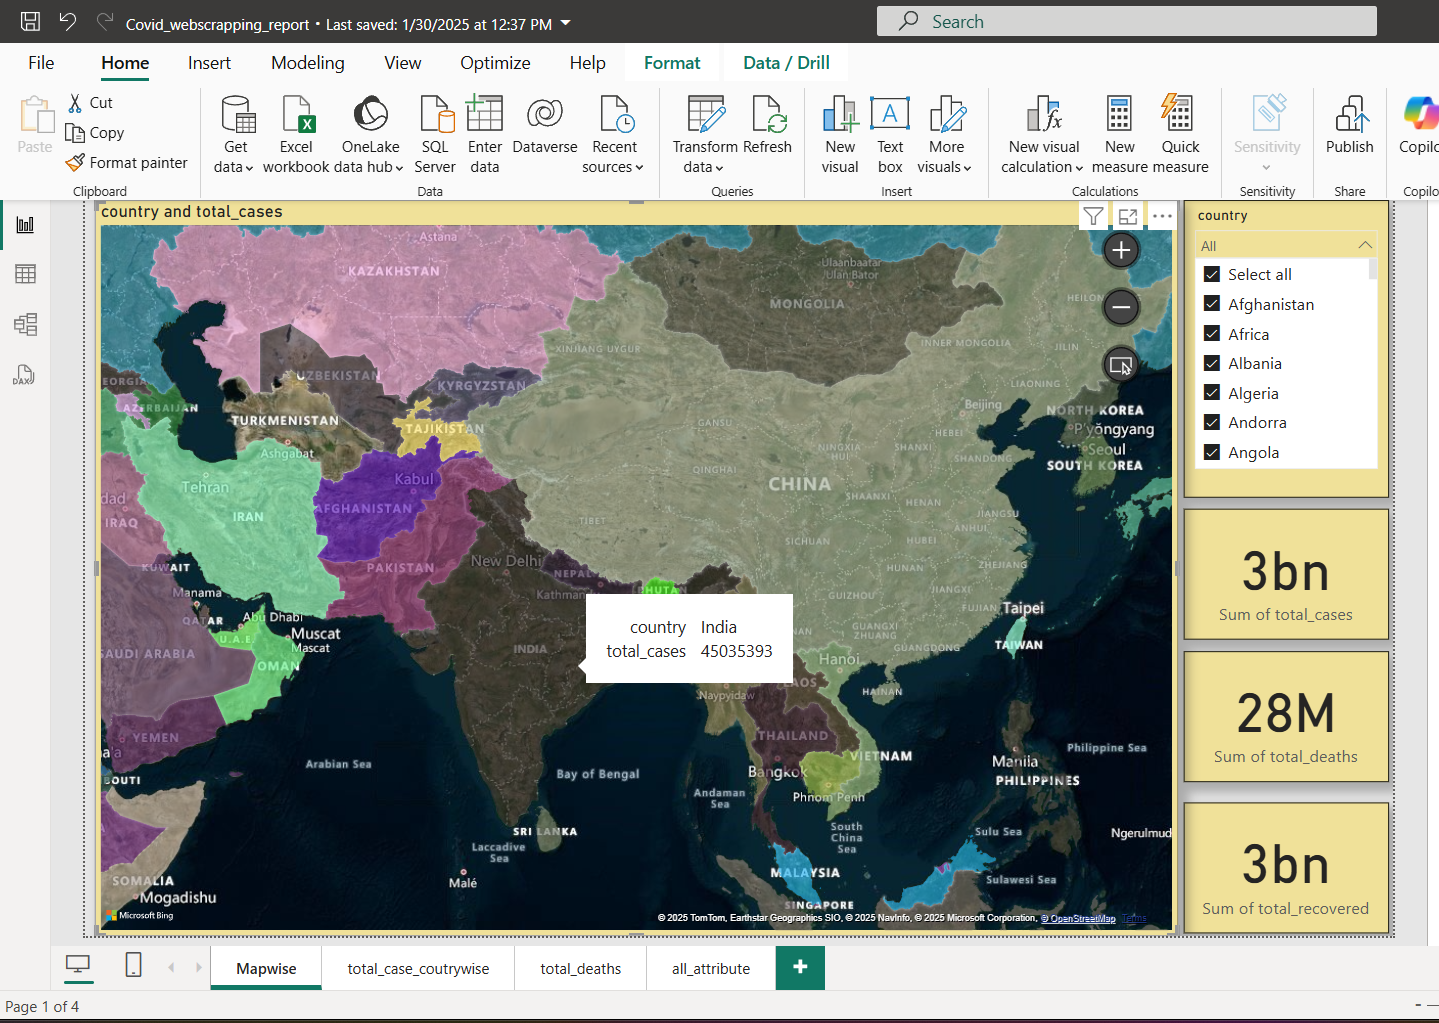

What the dashboard file says about the page in this screenshot:
{"tool":"powerbi","page":{"name":"Mapwise","canvas":[1280,720],"ordinal":0},"visuals":[{"type":"filledMap","fields":{"Category":["covid19 covid_data.country"],"Series":["covid19 covid_data.total_cases"]},"box":[9.8,0,1060.2,720.2],"z":0},{"type":"slicer","fields":{"Values":["covid19 covid_data.country"]},"box":[1074.9,0,200.5,291],"z":1000},{"type":"card","fields":{"Values":["Sum(covid19 covid_data.total_cases)"]},"box":[1075.2,302,200.5,128.4],"z":2000},{"type":"card","fields":{"Values":["Sum(covid19 covid_data.total_deaths)"]},"box":[1075.2,441.4,200.5,128.4],"z":3000},{"type":"card","fields":{"Values":["Sum(covid19 covid_data.total_recovered)"]},"box":[1075.2,589.4,200.5,128.4],"z":4000}]}

Visuals, with their boxes on the page's 1280x720 design canvas (x1, y1, x2, y2). These are canvas units, not pixel positions in the 1439x1023 screenshot, which may show the page scaled, cropped or inside an application window:
filledMap - covid19 covid_data.country x covid19 covid_data.total_cases: bbox=(10, 0, 1070, 720)
slicer - covid19 covid_data.country: bbox=(1075, 0, 1275, 291)
card - Sum(covid19 covid_data.total_cases): bbox=(1075, 302, 1276, 430)
card - Sum(covid19 covid_data.total_deaths): bbox=(1075, 441, 1276, 570)
card - Sum(covid19 covid_data.total_recovered): bbox=(1075, 589, 1276, 718)
